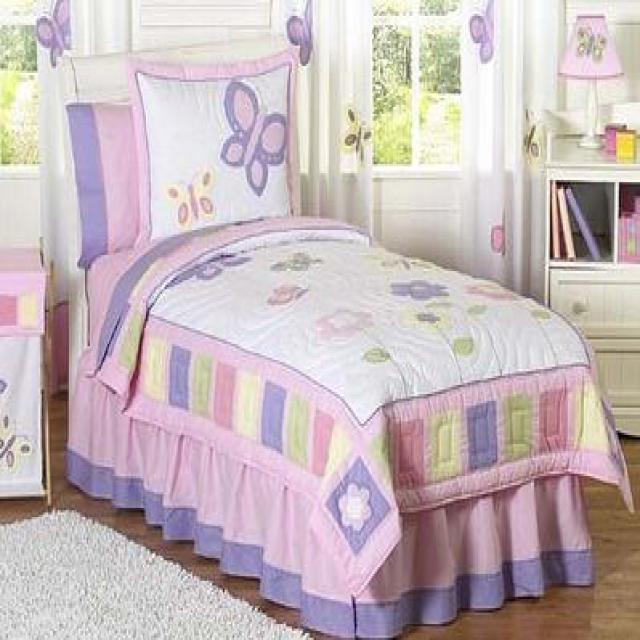bed: (49, 4, 634, 636)
